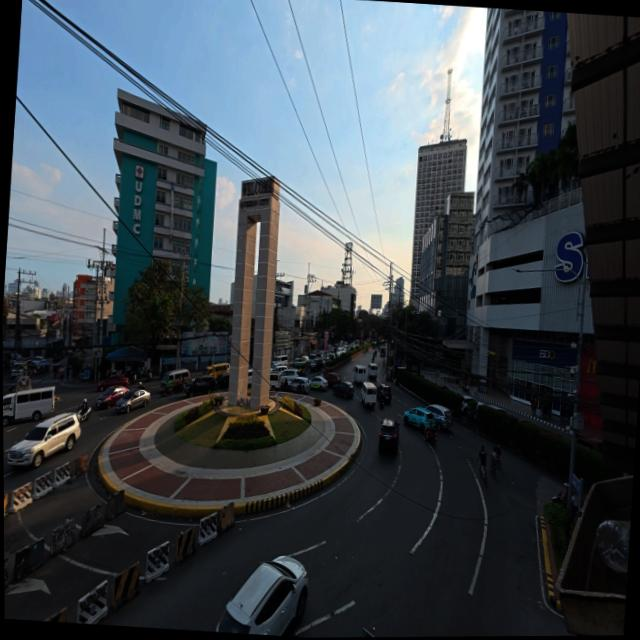car: (107, 386, 151, 415), (375, 419, 399, 455), (333, 379, 355, 400), (306, 374, 329, 392)
